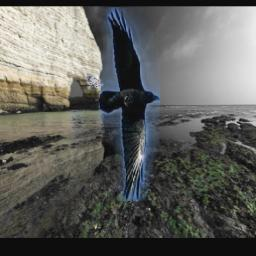Crow: (98, 7, 159, 201)
Woodpecker: (86, 75, 103, 90)
